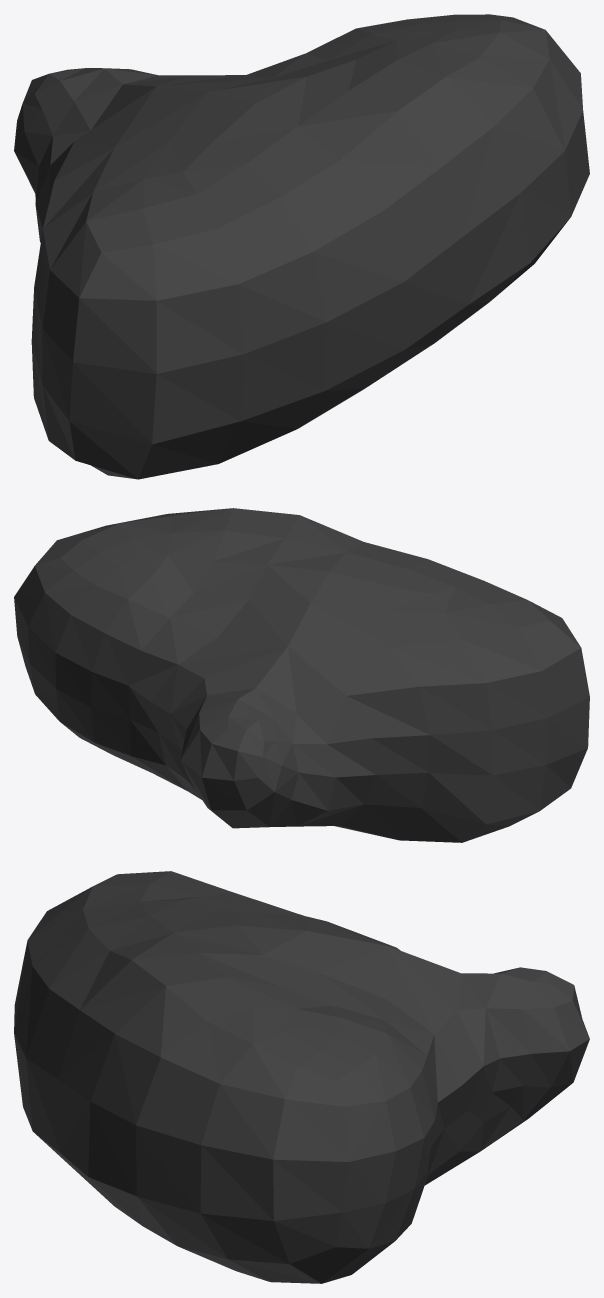
The model's file is LFL_carpal3.glb.
3 views of the same model, one above another, from view 1: azimuth 30°, elevation 25°; view 2: azimuth 150°, elevation 25°; view 3: azimuth 270°, elevation 25° (orthographic). The views are drawn at different scales.
Parts seen in each view (by area): view 1: LFL_carpal3; view 2: LFL_carpal3; view 3: LFL_carpal3.
Boxes of the visible parts, x1=… form: LFL_carpal3: x1=14, y1=14, x2=589, y2=479; LFL_carpal3: x1=14, y1=508, x2=589, y2=842; LFL_carpal3: x1=14, y1=871, x2=589, y2=1283.
Size of the model in its own units: 9.58 by 4.79 by 7.98.
Materials: 1 (1 with a texture image).
